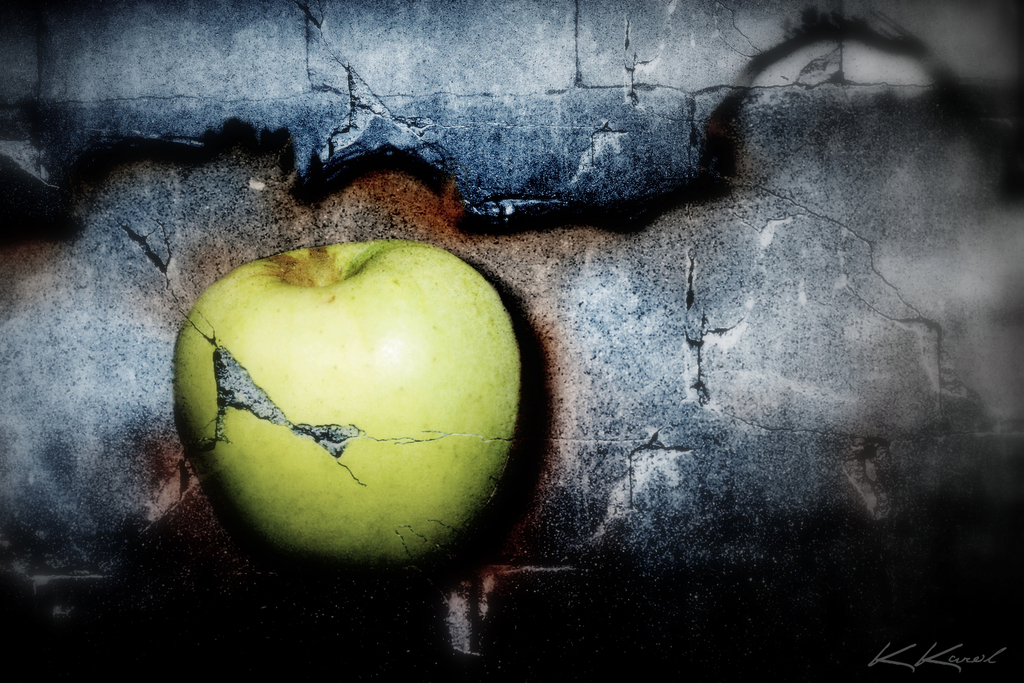Apple: (163, 253, 538, 582)
